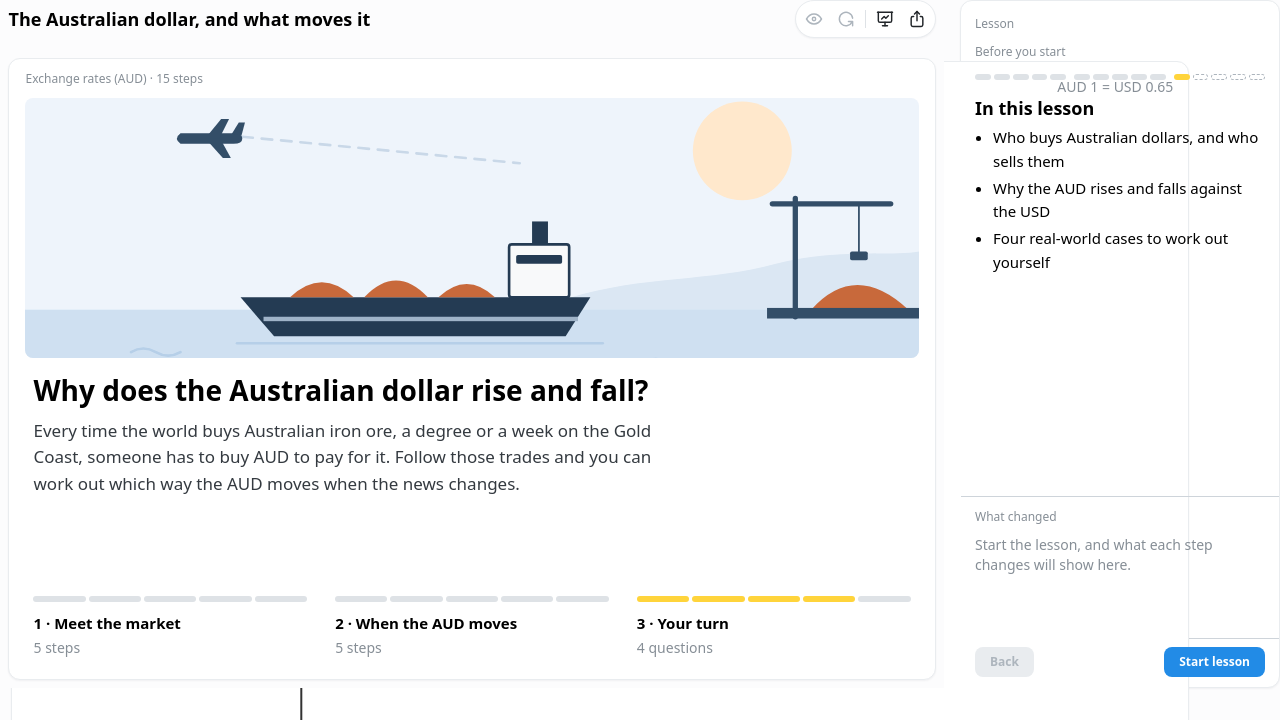
it: the picture step › starts on its still for a student who has asked for less motion
Click the button "Start lesson" at x=1215, y=662, box x1=1164 y1=647 x2=1265 y2=677
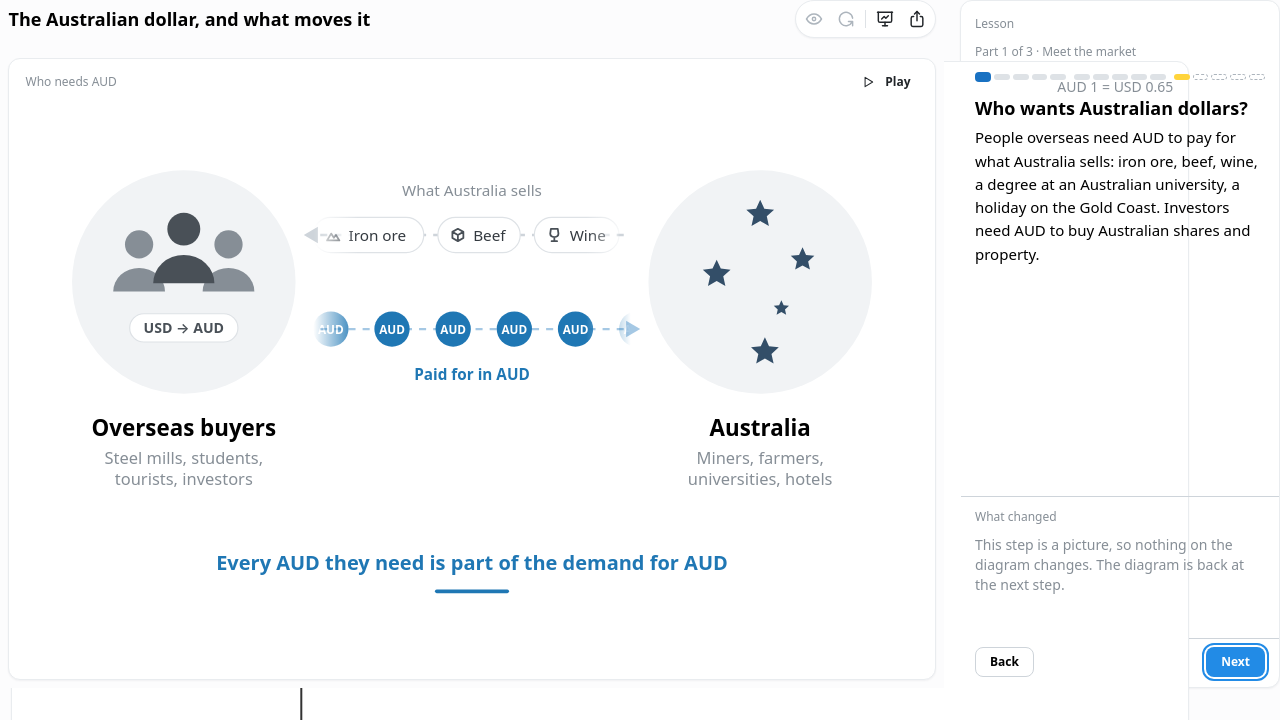
Check: the button with aria-label "Play the animation" is shown, box x1=856 y1=72 x2=918 y2=94
